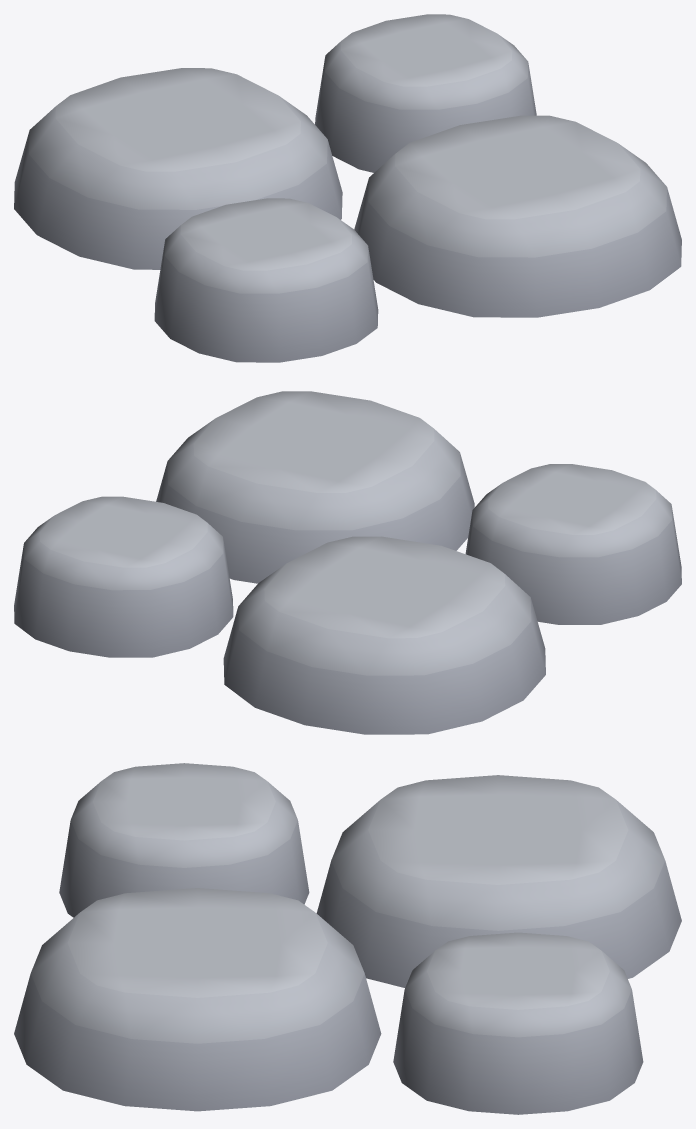
The model's file is cobble-stones.glb.
3 renders of one model, top to bottom at view 1: azimuth 30°, elevation 25°; view 2: azimuth 150°, elevation 25°; view 3: azimuth 270°, elevation 25°, orthographic. The views are drawn at different scales.
Visible parts, largest first — view 1: cobble_stones; view 2: cobble_stones; view 3: cobble_stones.
Boxes of the visible parts, <box> form: cobble_stones: <box>14,14,681,362</box>; cobble_stones: <box>14,391,681,734</box>; cobble_stones: <box>14,763,681,1114</box>.
Bounding box in the file's own units: 0.9744 × 0.15 × 1.
1 material, 1 textured.
